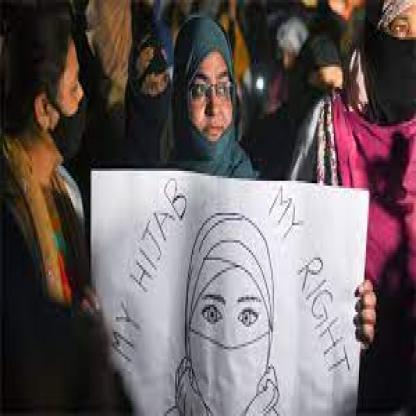BANNER: (92, 171, 369, 416)
